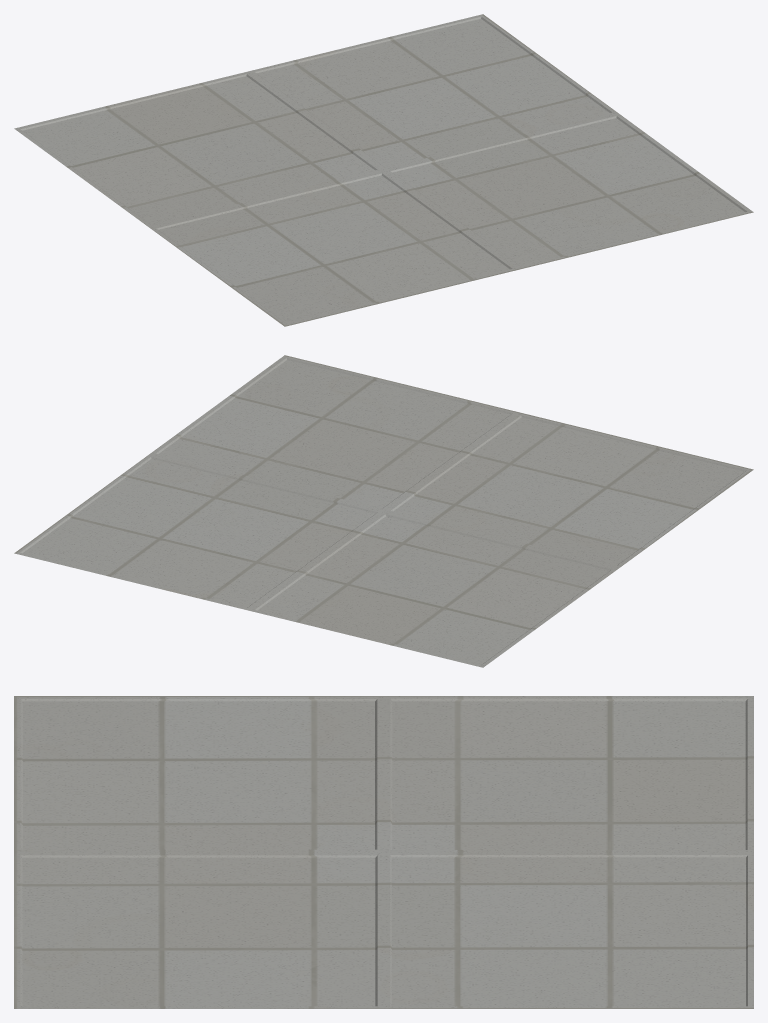
File: Roof.fbx
The picture shows the model from 3 angles, top to bottom: view 1: azimuth 30°, elevation 25°; view 2: azimuth 150°, elevation 25°; view 3: azimuth 270°, elevation 25°; orthographic projection. The views are drawn at different scales.
Parts seen in each view (by area): view 1: Roof; view 2: Roof; view 3: Roof.
Boxes of the visible parts, x1,y1,x2,y2 form: Roof: [14, 14, 753, 326]; Roof: [14, 355, 753, 667]; Roof: [14, 696, 753, 1008].
Bounding box in the file's own units: 196 × 0.4554 × 196.
